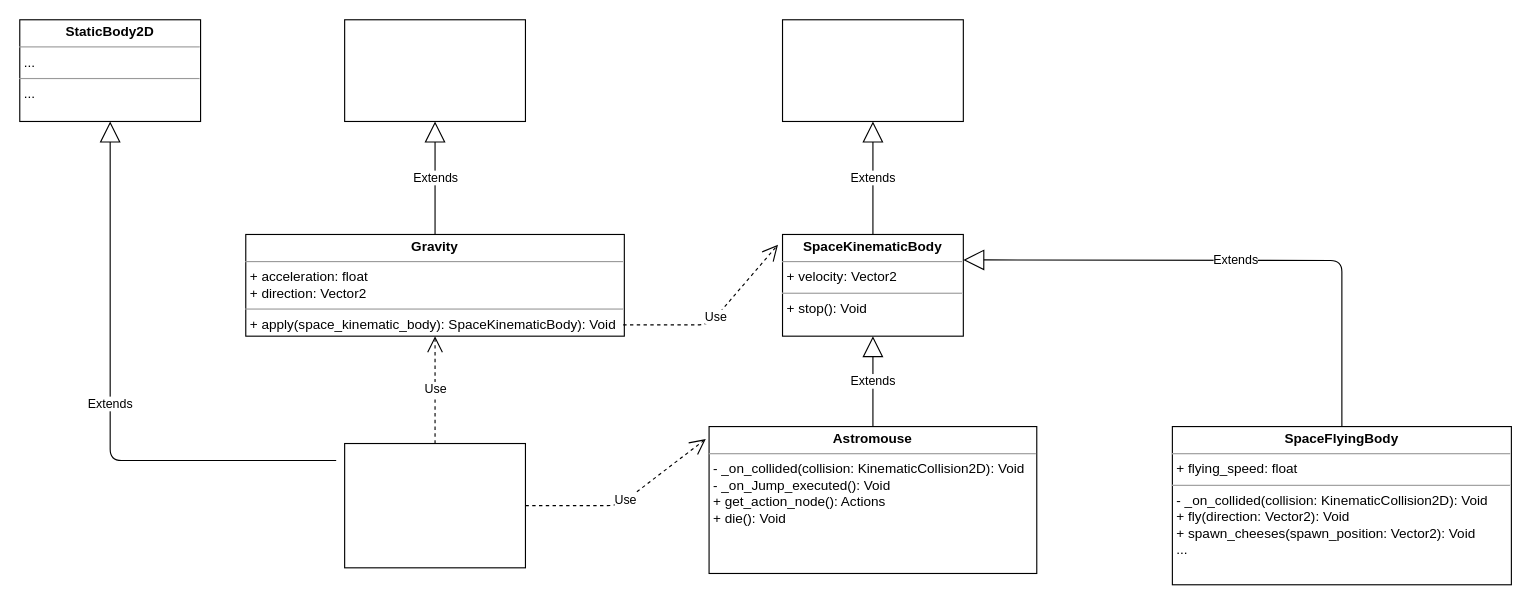
The diagram is 1531 pixels wide and 605 high, and some of its shapes have lost their labels. The shapes that lost their labels are listed below. From the top down, each one's centre as x and y in pixels, then its label:
point (434, 70): Node ... ...
point (872, 70): KinematicBody2D ... ...
point (434, 505): GravityBody - _gravity: Gravity + astromouse: Astromouse + pulse(): Void ...
